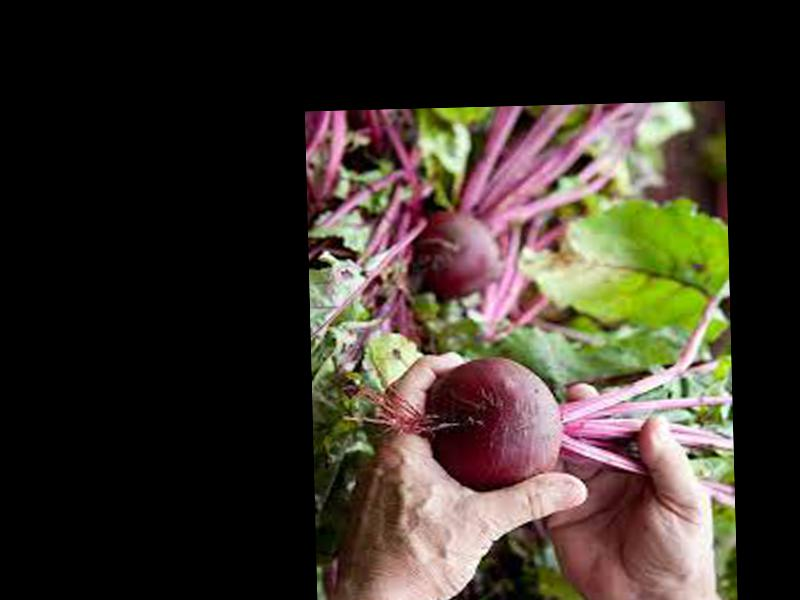Beet: (421, 278, 732, 495)
